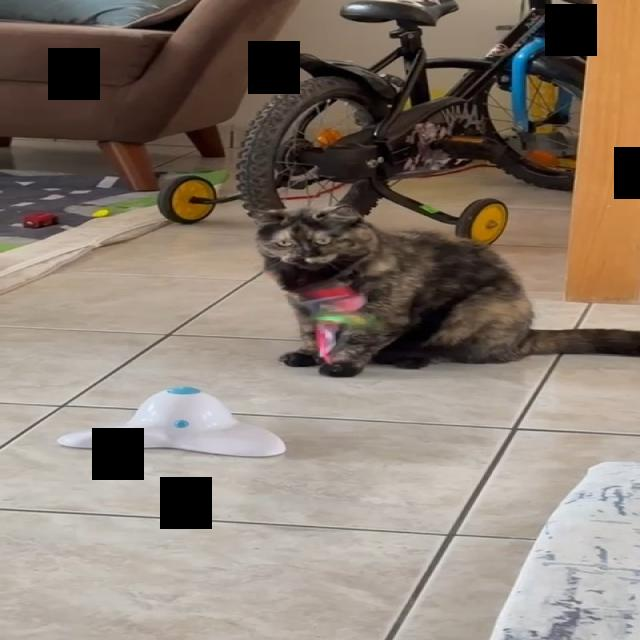authorized: (252, 204, 639, 377)
